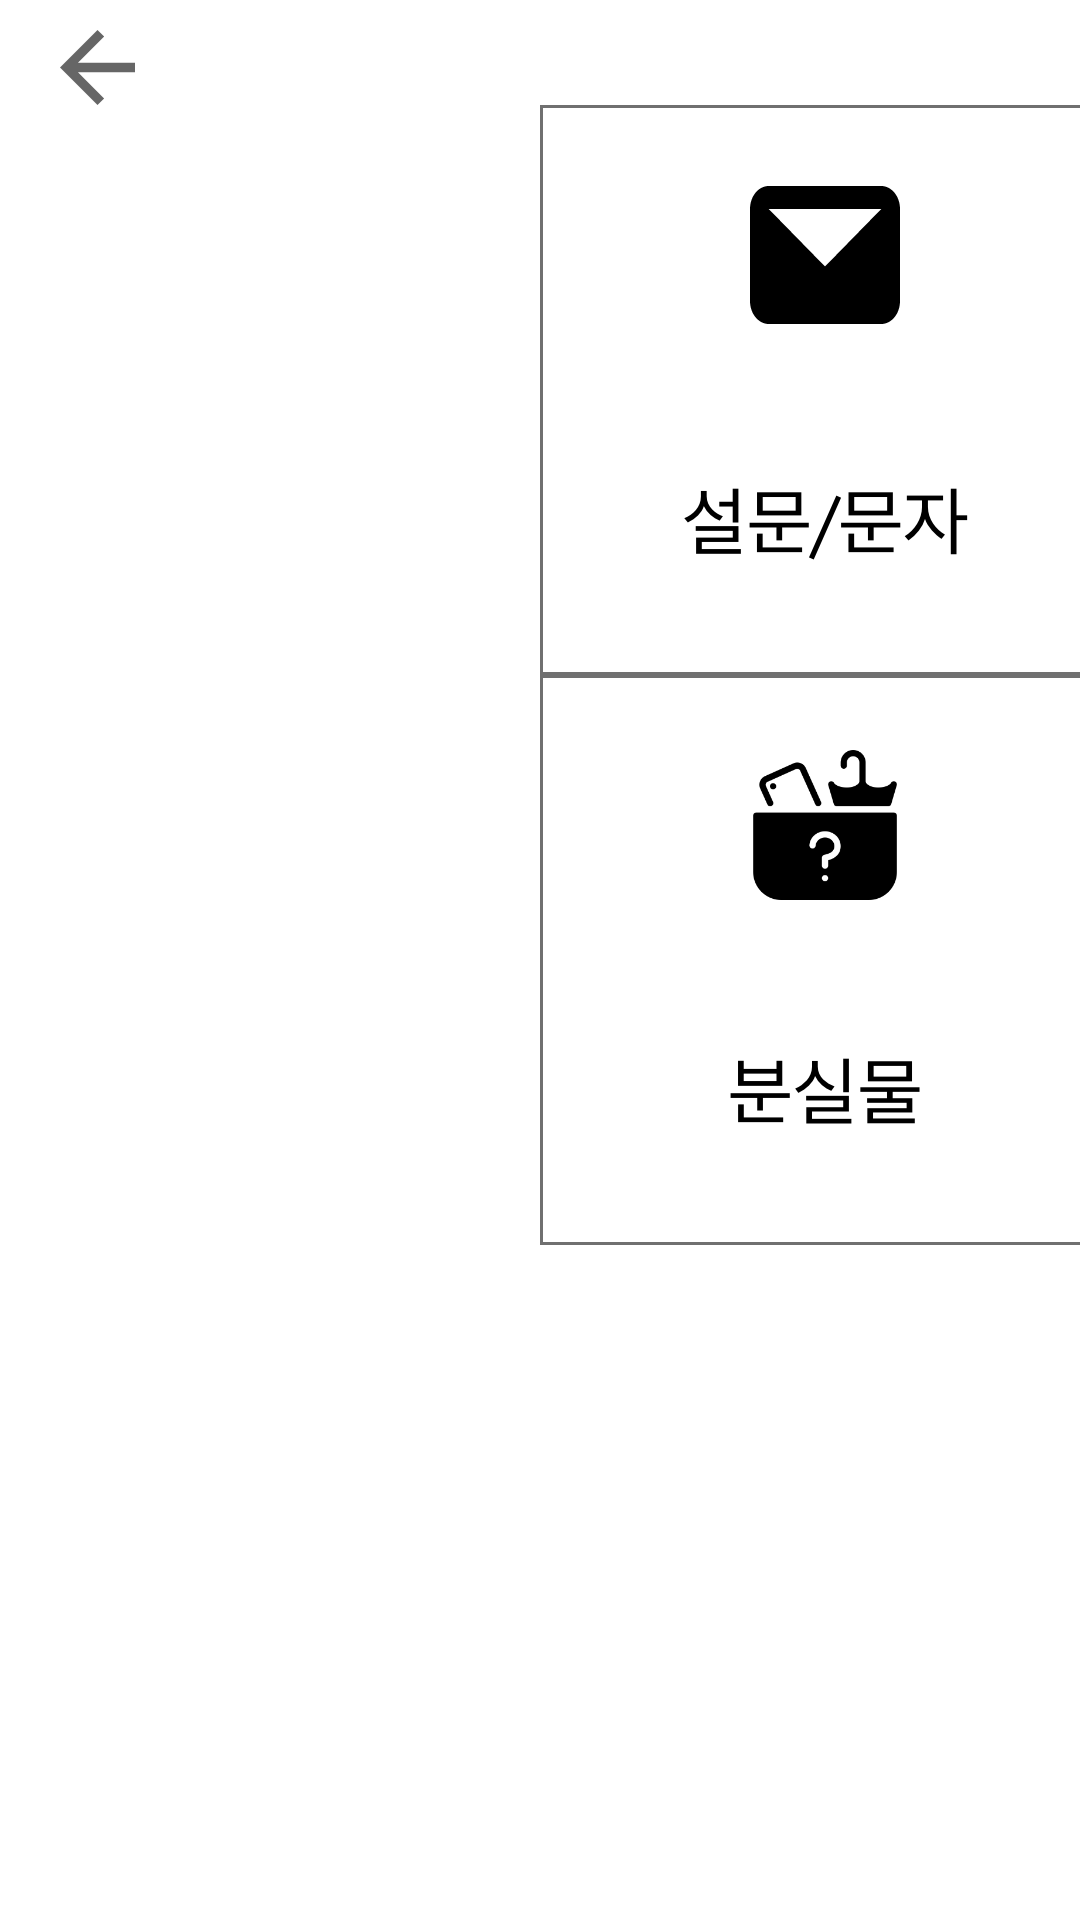

Icon bounding boxes for this 1080 × 1920 phone screenshot, format Rect(x1, y1, x2, y2):
iconback: Rect(60, 30, 135, 105)
